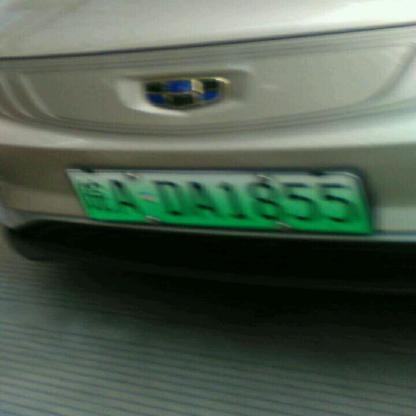lp: (66, 170, 375, 230)
